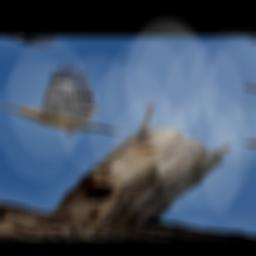Woodpecker: (0, 60, 135, 152)
